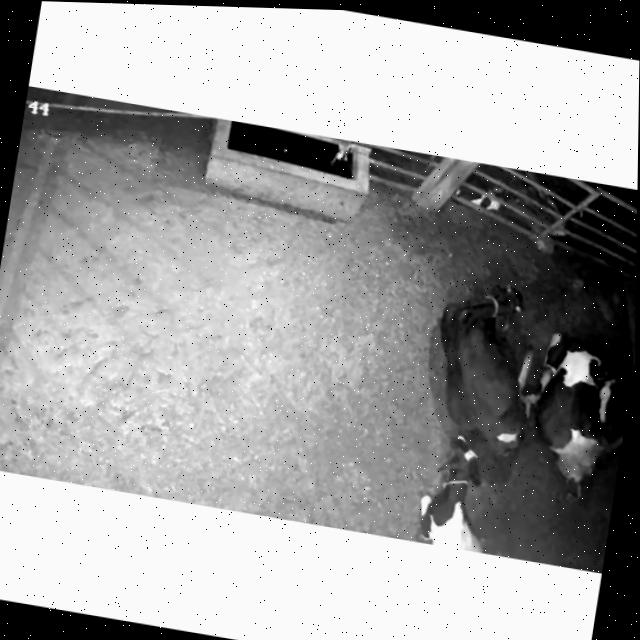lay: (398, 256, 550, 463), (518, 265, 636, 498), (400, 423, 527, 558)
